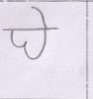e_matra: (30, 6, 53, 27)
